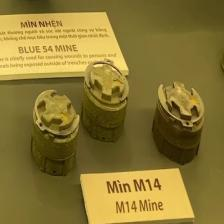M14: (153, 81, 203, 166), (32, 91, 78, 177), (82, 60, 130, 142)
